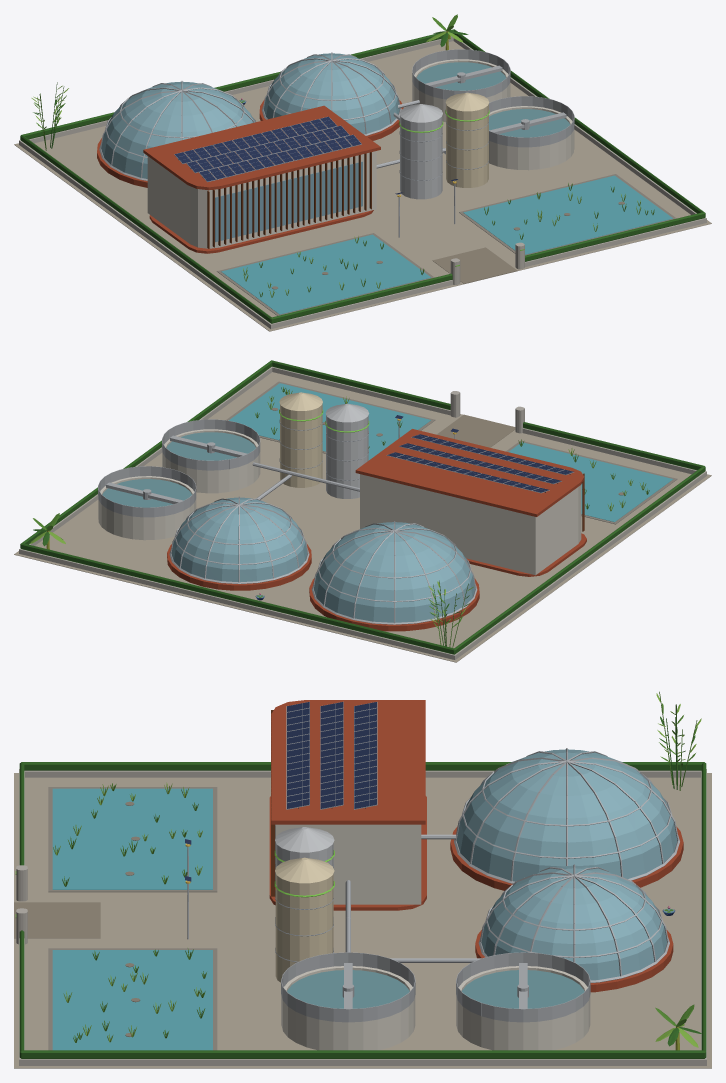
File: water_works.glb
3 renders of one model, top to bottom at view 1: azimuth 30°, elevation 25°; view 2: azimuth 150°, elevation 25°; view 3: azimuth 270°, elevation 25°, orthographic. The views are drawn at different scales.
Visible parts, largest first — view 1: body; view 2: body; view 3: body.
Part boxes in pixels (<box>): body: <box>14,14,711,331</box>; body: <box>14,360,711,662</box>; body: <box>14,691,711,1068</box>.
Size of the model in its own units: 47.9 by 8.91 by 47.9.
